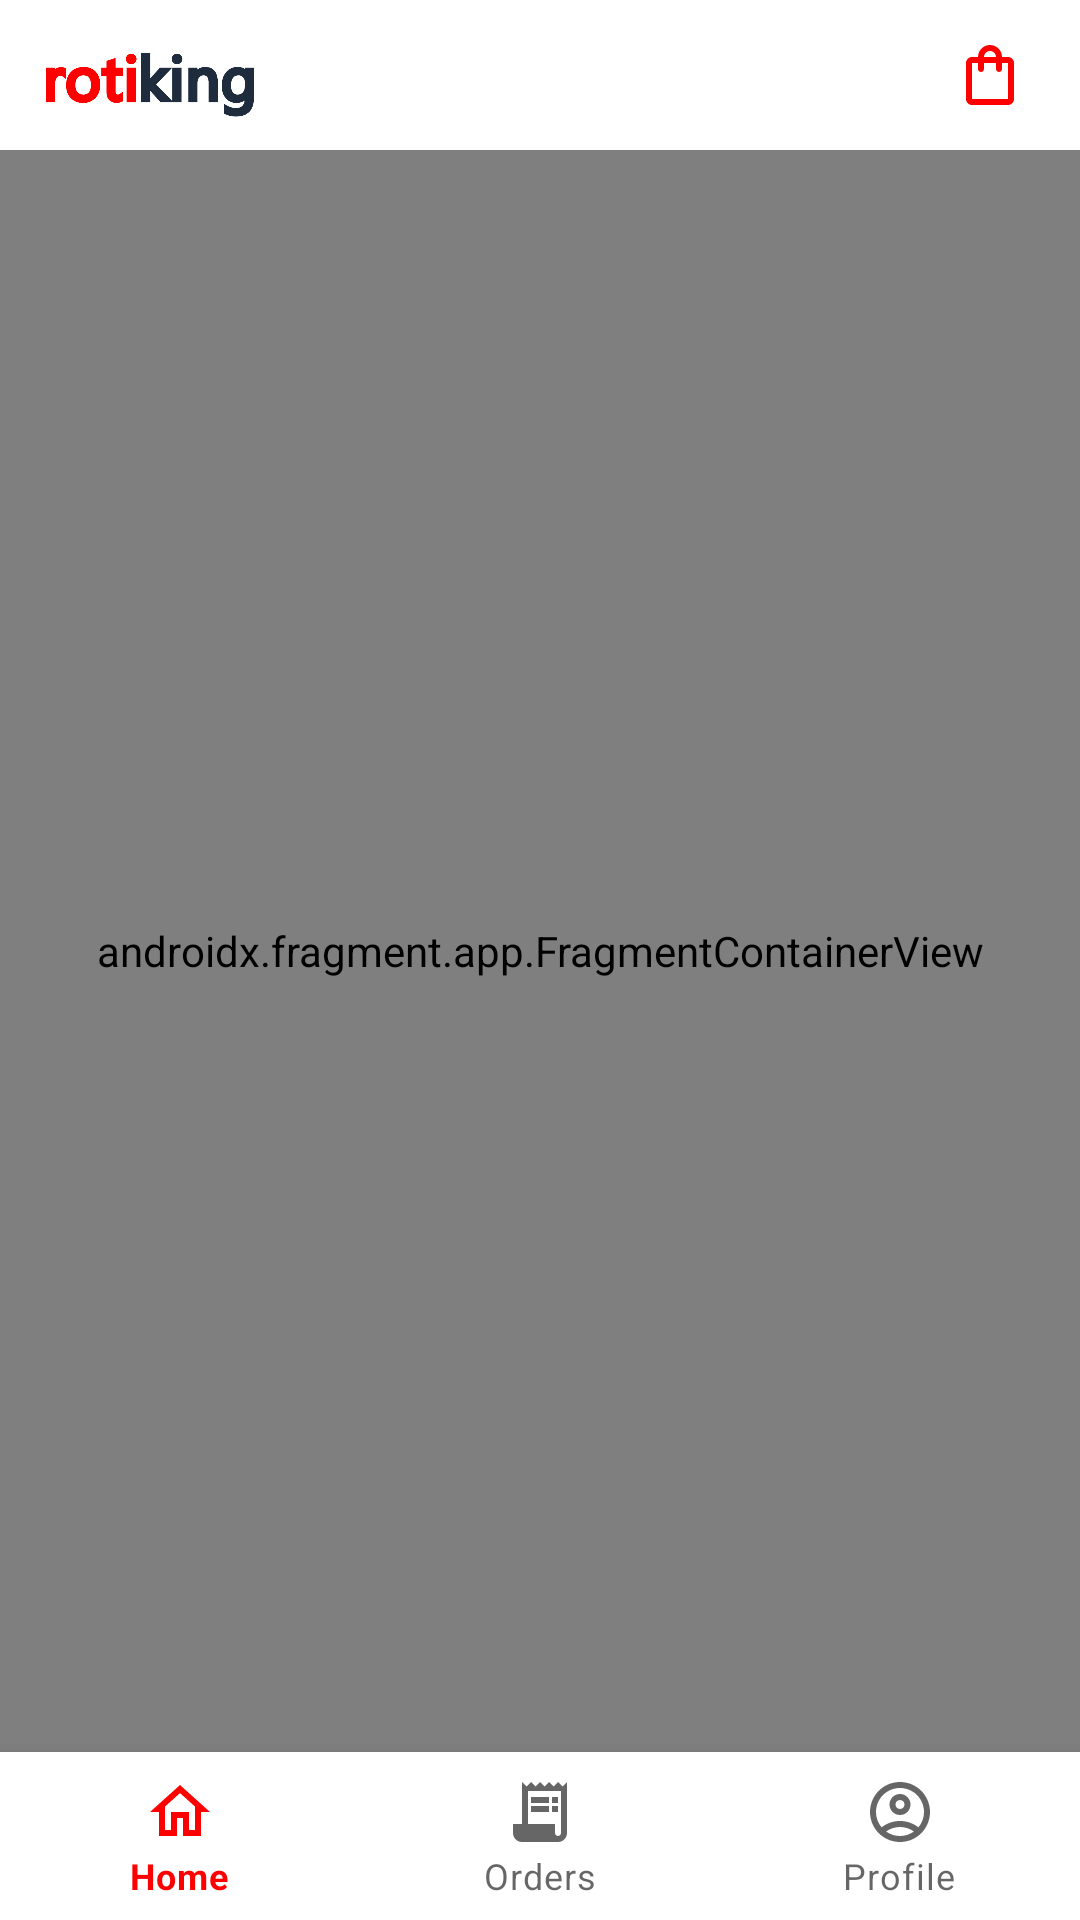

Icons on this 1080 x 1920 Android screen, each with the point to tap as [x,y]:
Cart: [990,75]
